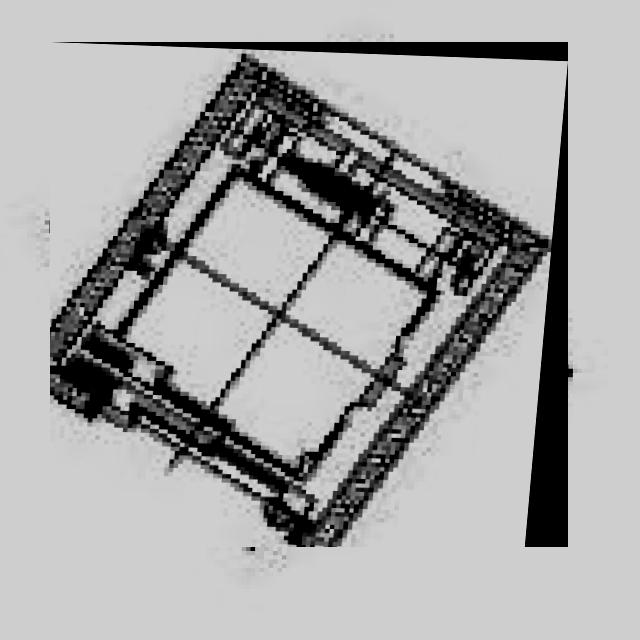lift: (50, 42, 568, 547)
